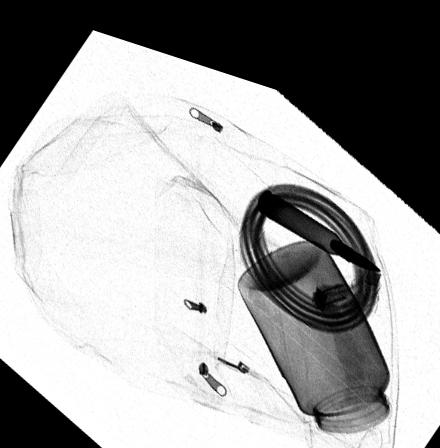Bullet: (257, 171, 383, 248)
